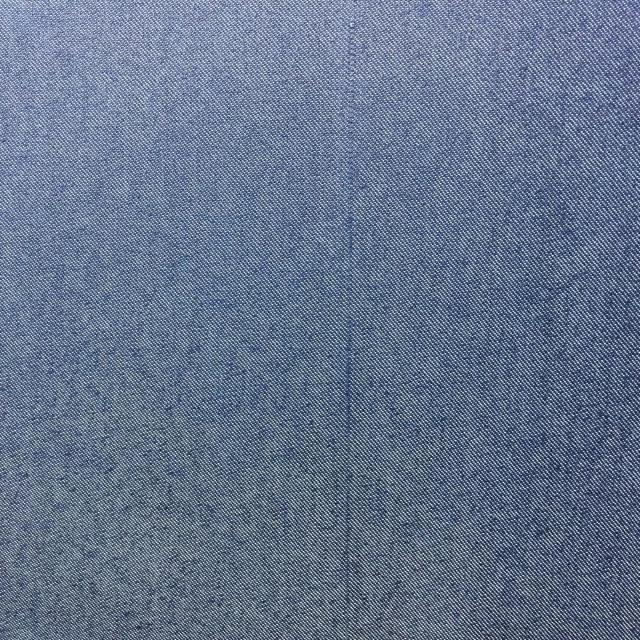Line: (342, 0, 357, 640)
